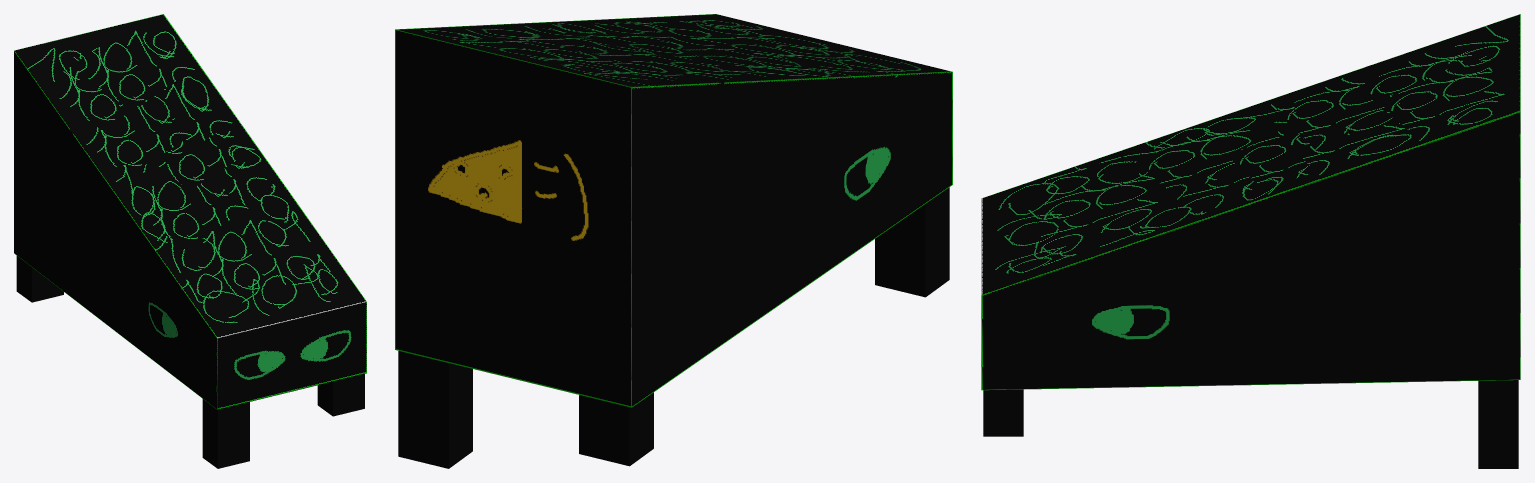
File: Normal.fbx
The picture shows the model from 3 angles, left to right: view 1: azimuth 30°, elevation 25°; view 2: azimuth 150°, elevation 25°; view 3: azimuth 270°, elevation 25°; orthographic projection. The views are drawn at different scales.
Visible parts, largest first — view 1: Box001; view 2: Box001; view 3: Box001.
Boxes of the visible parts, left/top/right/bottom form: Box001: left=14, top=14, right=366, bottom=468; Box001: left=395, top=14, right=952, bottom=468; Box001: left=981, top=14, right=1520, bottom=468.
Bounding box in the file's own units: 17.93 × 30.95 × 42.15.
